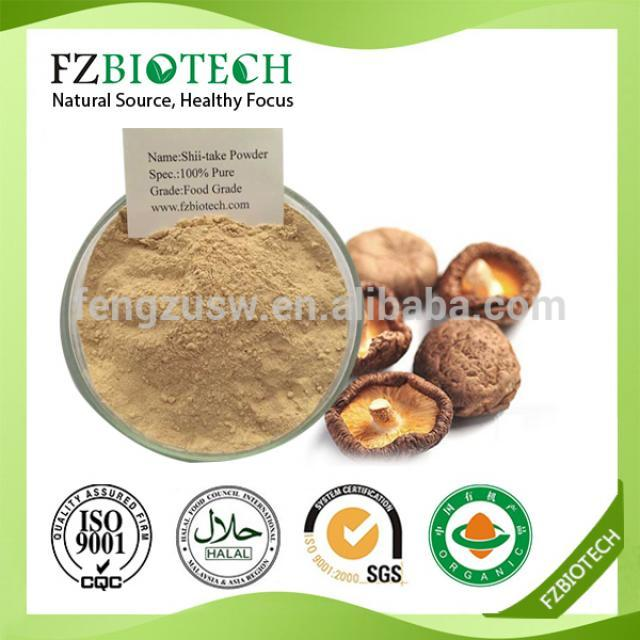Lentinus edodes: (413, 321, 522, 424), (326, 371, 454, 455), (443, 242, 542, 318), (346, 226, 437, 296), (356, 295, 411, 368)
